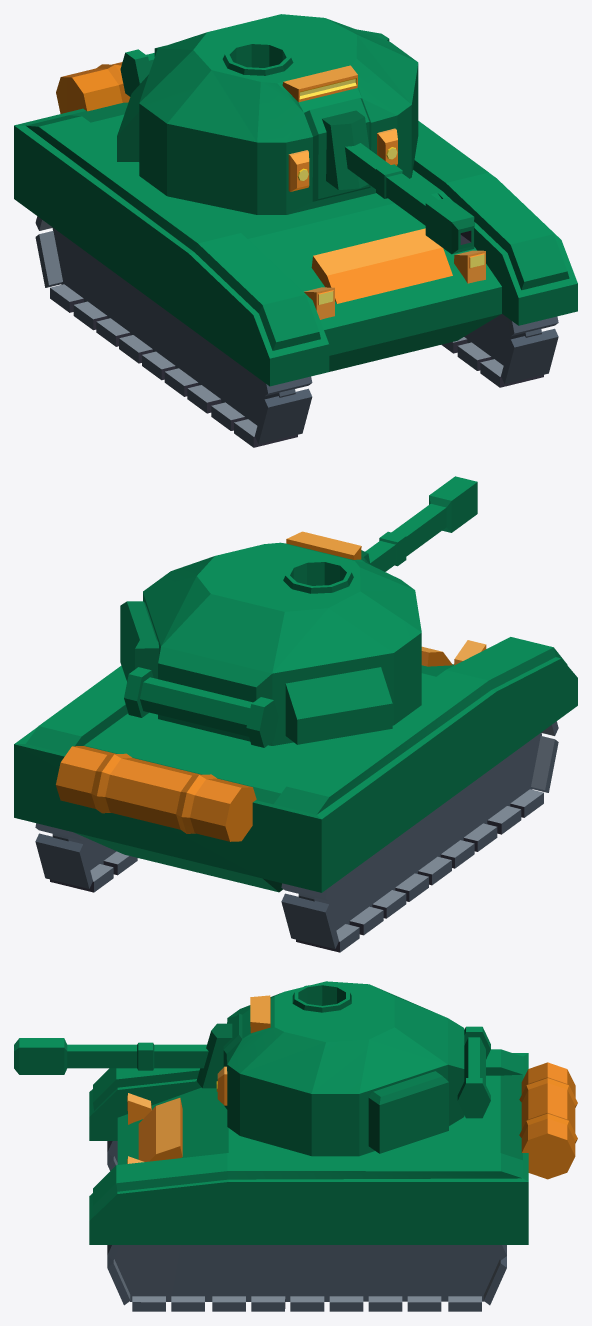
The model's file is Tank.fbx.
3 views of the same model, one above another, from view 1: azimuth 30°, elevation 25°; view 2: azimuth 150°, elevation 25°; view 3: azimuth 270°, elevation 25° (orthographic). The views are drawn at different scales.
Visible parts, largest first — view 1: Tank; view 2: Tank; view 3: Tank.
Part boxes in pixels (x1=…): Tank: x1=14, y1=14, x2=577, y2=447; Tank: x1=14, y1=476, x2=577, y2=952; Tank: x1=14, y1=981, x2=577, y2=1311.
Bounding box in the file's own units: 179 × 157 × 331.
1 material, 1 textured.
